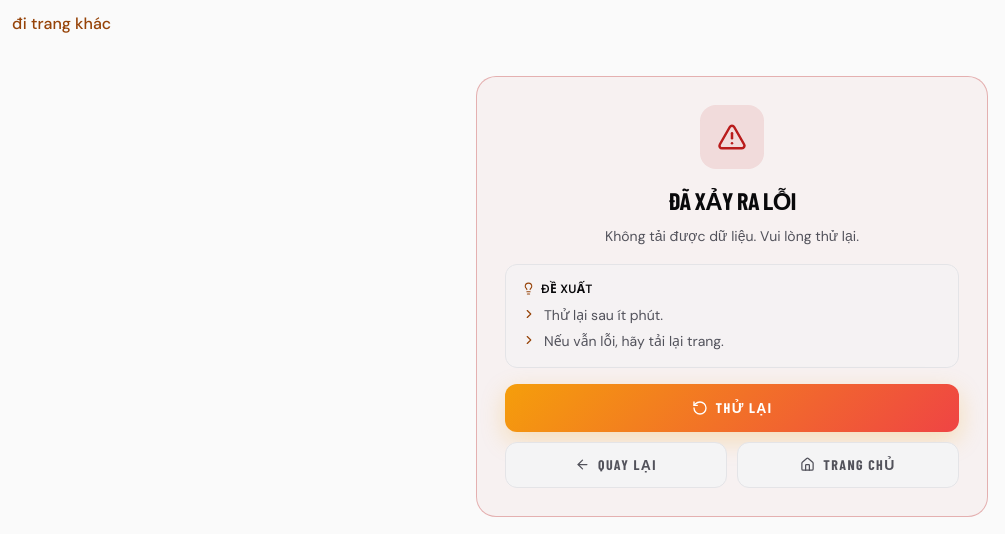
Test: RouteErrorBoundary › clears the caught error on navigation, so a healthy route is not stuck on the panel
This screenshot has width=1005, height=534.
Check: the heading "Đã xảy ra lỗi" is shown, box 668,186 -> 796,215
What coordinates should you click on to do the following:
click the link "đi trang khác"
I would click on:
 (62, 24)
Its box is 12,13 -> 111,34.
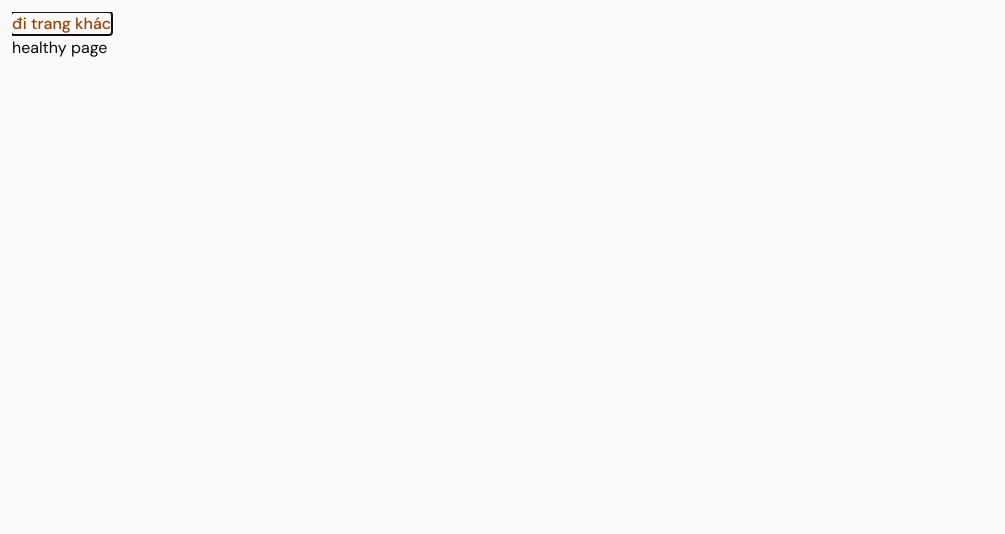
Check: the text "healthy page" is shown, box 12,37 -> 107,58
Check: the heading "Đã xảy ra lỗi" is gone
